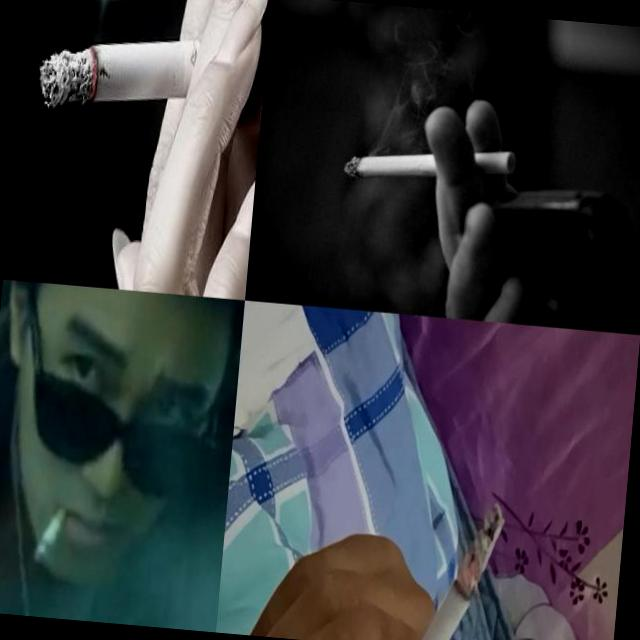cigarette: (32, 20, 246, 128), (392, 491, 507, 640), (343, 137, 517, 192), (32, 501, 65, 562)
